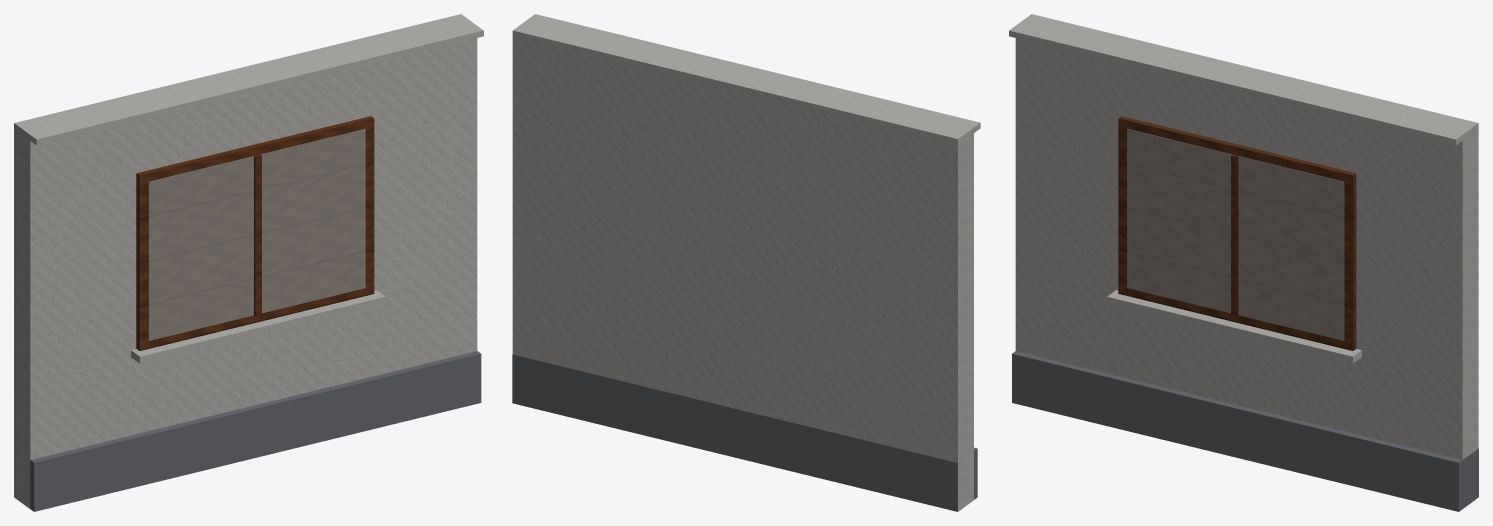
The model's file is alley_wall_bay.glb.
3 renders of one model, left to right at view 1: azimuth 30°, elevation 25°; view 2: azimuth 150°, elevation 25°; view 3: azimuth 330°, elevation 25°, orthographic.
Parts seen in each view (by area): view 1: alley-wall-bay-concrete, alley-wall-bay-darkwood, alley-wall-bay-glass, alley-wall-bay-charcoal; view 2: alley-wall-bay-concrete, alley-wall-bay-charcoal; view 3: alley-wall-bay-concrete, alley-wall-bay-darkwood, alley-wall-bay-glass, alley-wall-bay-charcoal.
Part boxes in pixels (box(x1,y1,x2,y2)): alley-wall-bay-concrete: box(14, 14, 483, 508); alley-wall-bay-darkwood: box(136, 116, 374, 350); alley-wall-bay-glass: box(148, 129, 365, 340); alley-wall-bay-charcoal: box(30, 351, 481, 511); alley-wall-bay-concrete: box(512, 14, 980, 511); alley-wall-bay-charcoal: box(512, 354, 977, 511); alley-wall-bay-concrete: box(1009, 14, 1478, 459); alley-wall-bay-darkwood: box(1118, 116, 1356, 350); alley-wall-bay-glass: box(1127, 129, 1344, 340); alley-wall-bay-charcoal: box(1012, 351, 1478, 511).
Bounding box in the file's own units: 4 × 3.2 × 0.3913.
Materials: 4 (2 with a texture image).
